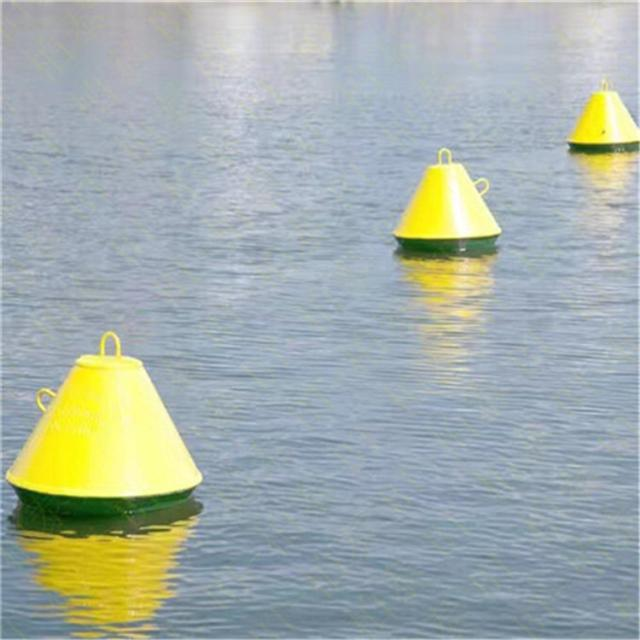buoy: (1, 333, 203, 515), (394, 144, 506, 245), (562, 77, 640, 157)
